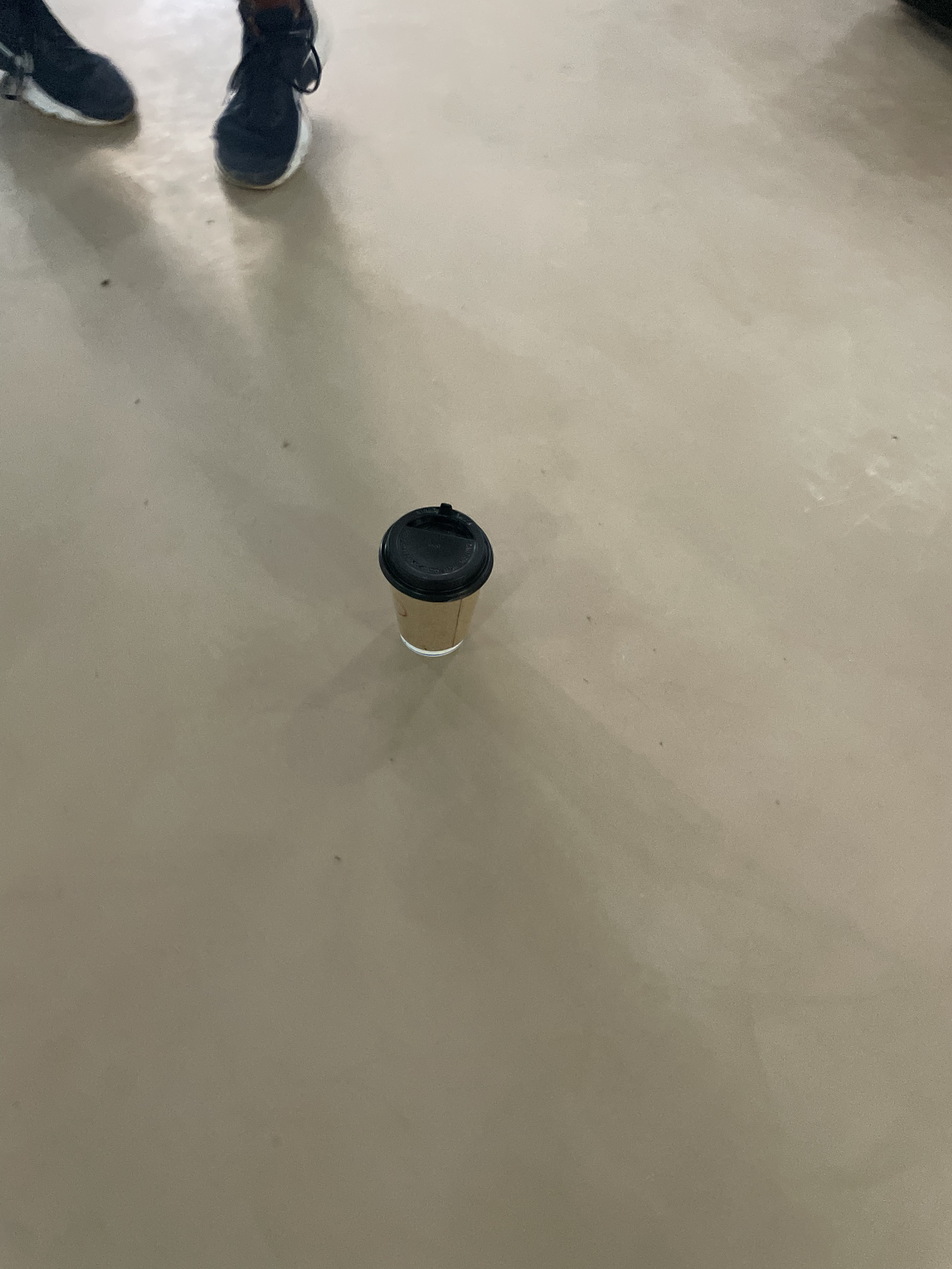cup: (379, 503, 493, 657)
